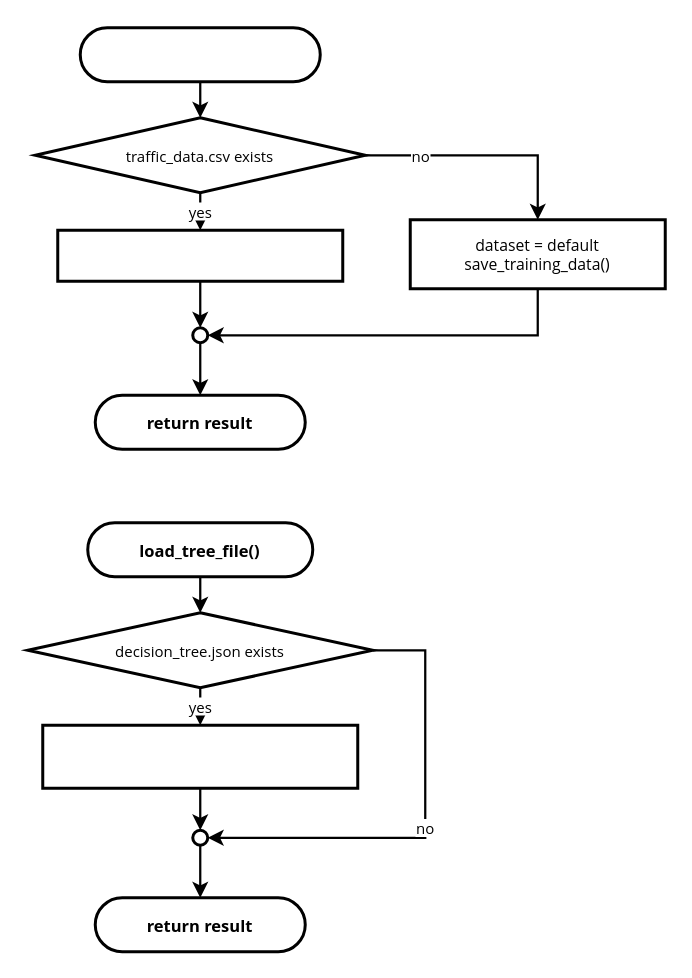
Some shapes in this 692 by 978 pixel diagram are drawn without their labels. The centre of each missing label's shape, as x and y in pixels:
current_tree = json.load(f) generate_tree_image(): the point at 199,756
load_training_data(): the point at 199,54
Read rows & set dataset: the point at 200,255
